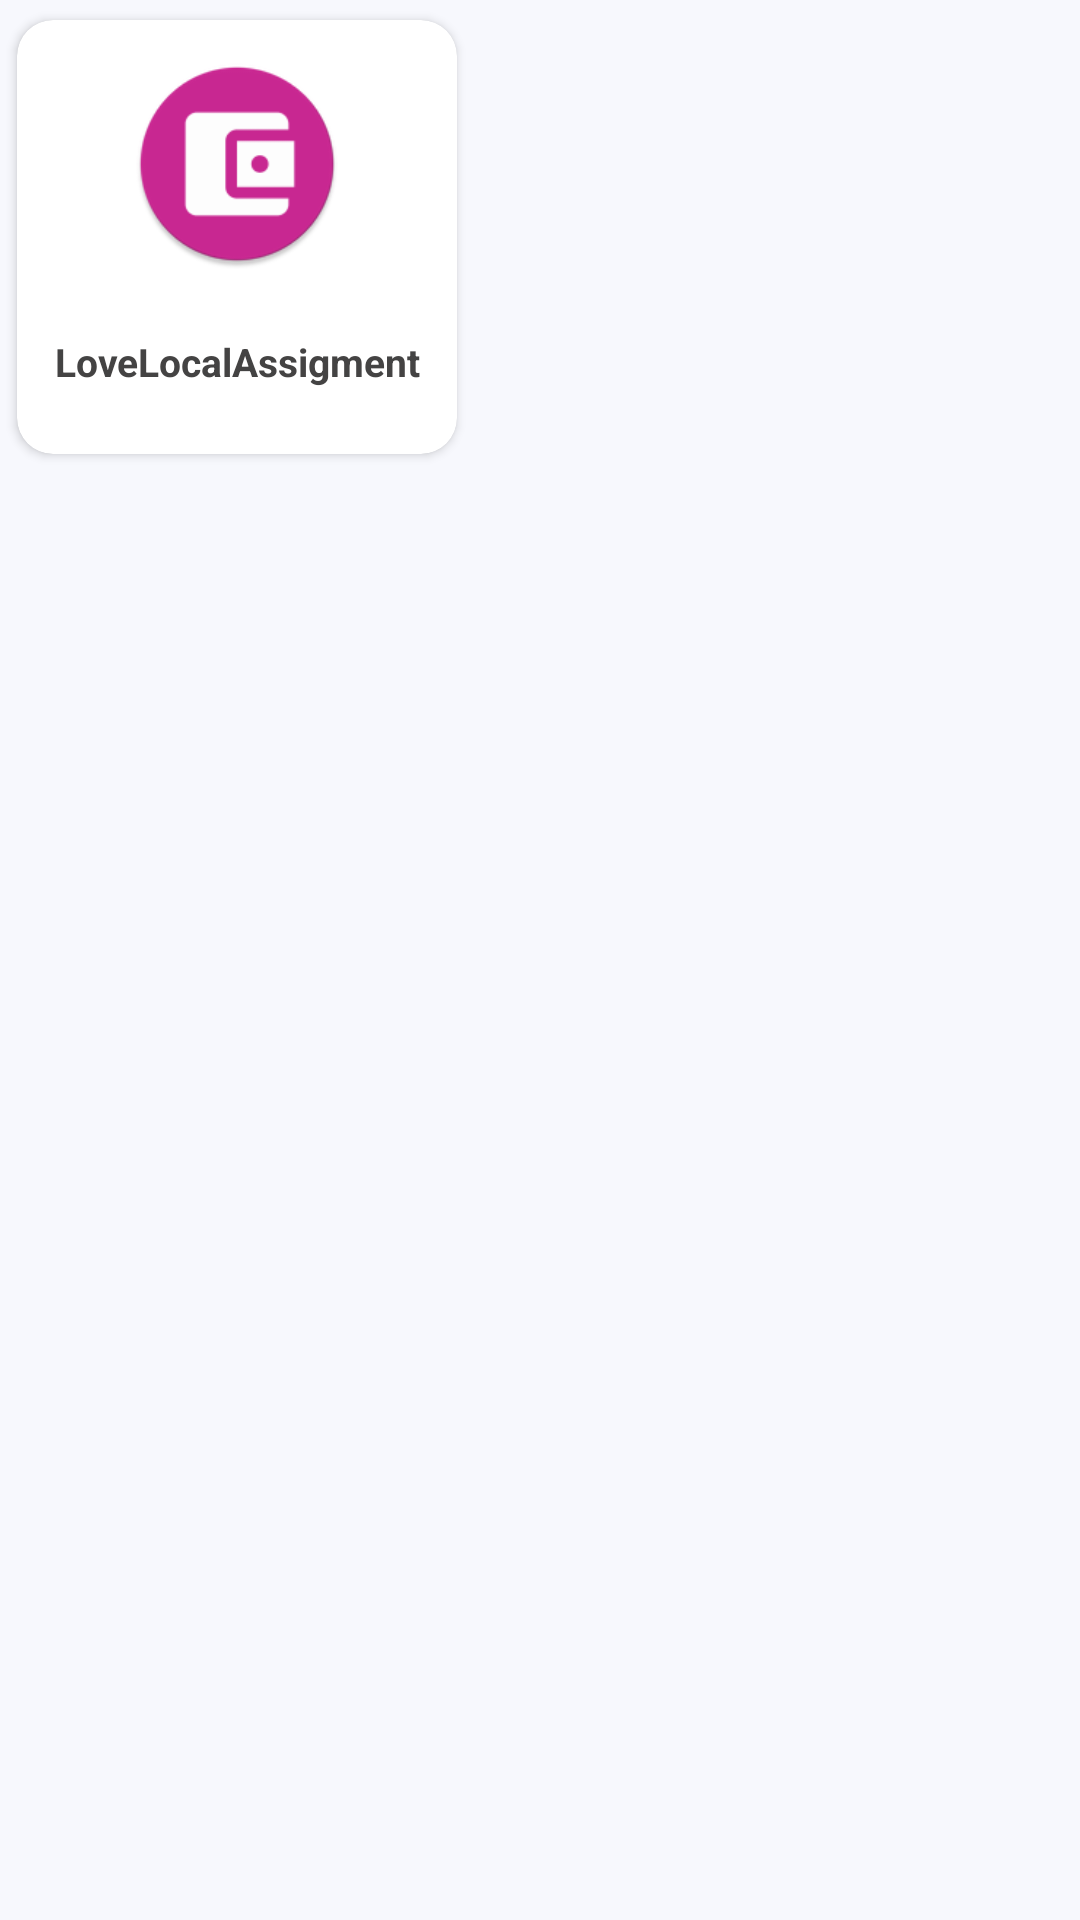

Screen size 1080px x 1920px. Icon name, then its box in pixels as (x1, y1, x2, y2):
wallet: (139, 66, 335, 265)
